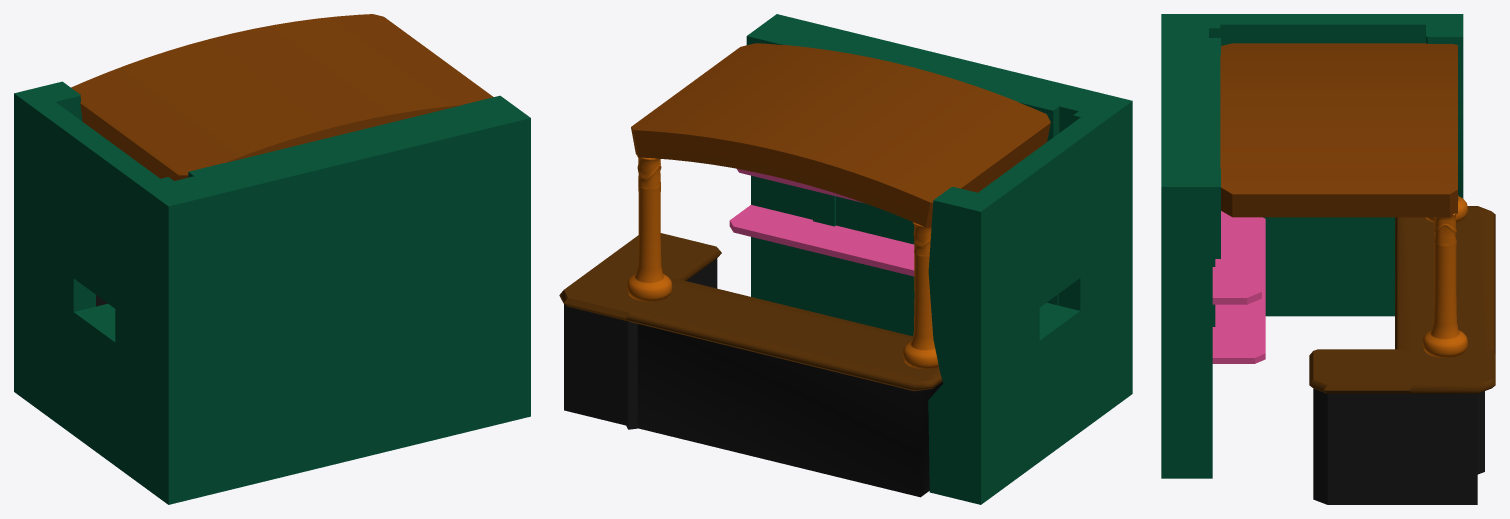
The model's file is barScene.fbx.
3 renders of one model, left to right at view 1: azimuth 30°, elevation 25°; view 2: azimuth 150°, elevation 25°; view 3: azimuth 270°, elevation 25°, orthographic. The views are drawn at different scales.
Visible parts, largest first — view 1: pCube2, pCube3; view 2: pCube2, pCube1, pCube3, pCylinder2, pCylinder1; view 3: pCube2, pCube3, pCube1, pCylinder2.
Part boxes in pixels (bbox=[...]): pCube2: bbox=[14, 81, 530, 504]; pCube3: bbox=[71, 14, 493, 180]; pCube2: bbox=[729, 14, 1132, 504]; pCube1: bbox=[559, 233, 943, 497]; pCube3: bbox=[631, 43, 1050, 227]; pCylinder2: bbox=[627, 154, 672, 301]; pCylinder1: bbox=[902, 222, 938, 369]; pCube2: bbox=[1161, 14, 1463, 478]; pCube3: bbox=[1220, 43, 1457, 217]; pCube1: bbox=[1309, 206, 1495, 504]; pCylinder2: bbox=[1422, 213, 1467, 357].
Bounding box in the file's own units: 139 × 97.37 × 98.15.
